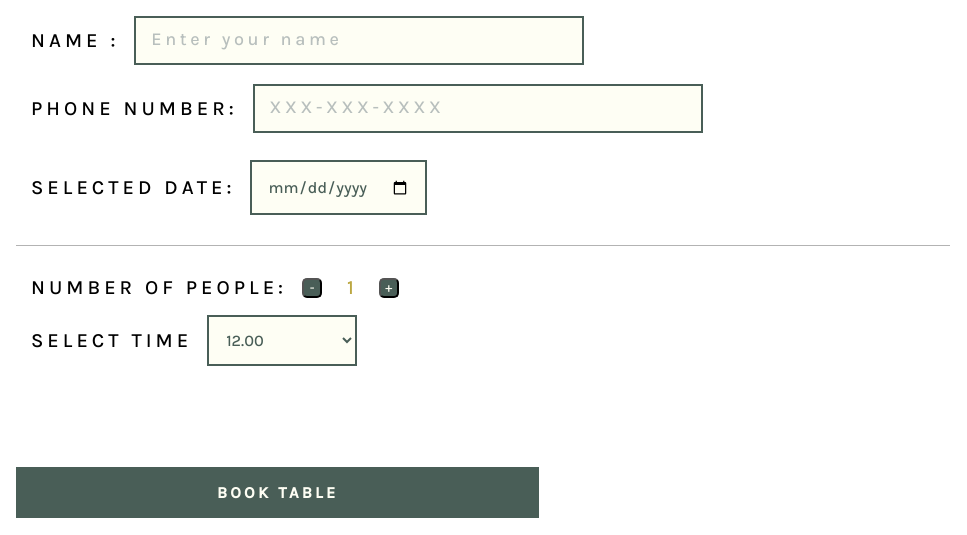
Test: Form Component › increments number of people
Click the button "+" at (389, 288), box [379,278,399,298]
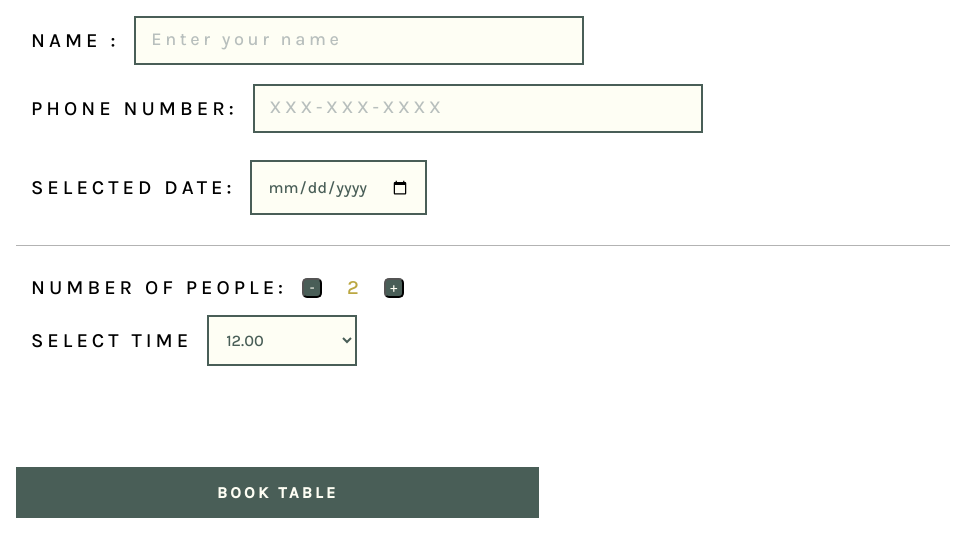
Now the text "1" reads "2", box [347,276,359,299]
